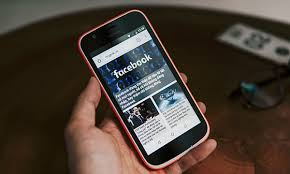nokia: (73, 9, 216, 169)
